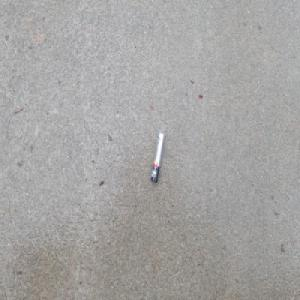Battery: (150, 131, 164, 183)
